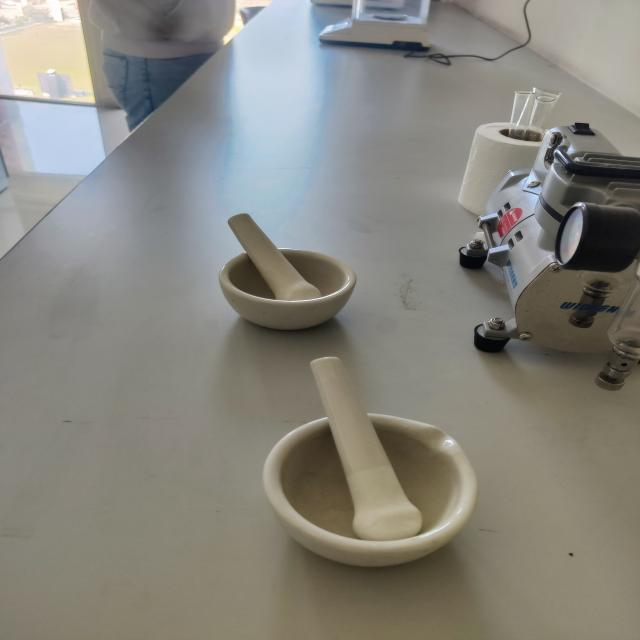Porcelain_Mortar Pestle: (244, 344, 496, 582), (190, 187, 372, 353)
